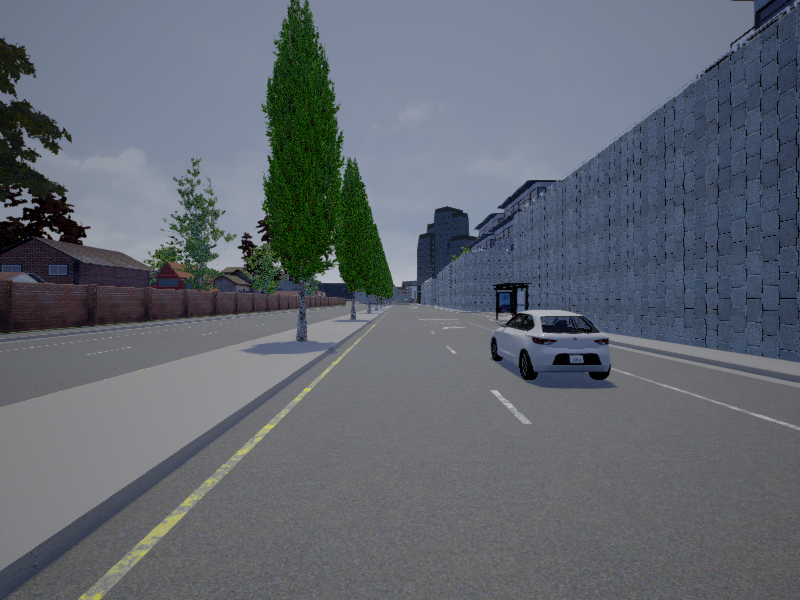Benign: (490, 310, 610, 382)
